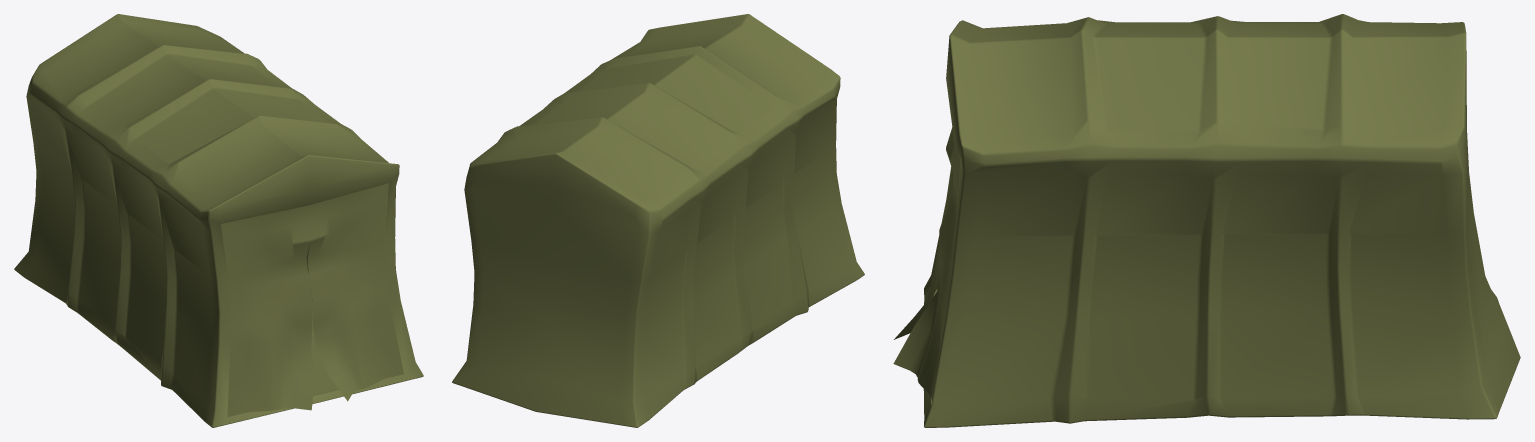
The model's file is BARRAC.fbx.
3 views of the same model, side by side, from view 1: azimuth 30°, elevation 25°; view 2: azimuth 150°, elevation 25°; view 3: azimuth 270°, elevation 25° (orthographic). The views are drawn at different scales.
Parts seen in each view (by area): view 1: Barrac; view 2: Barrac; view 3: Barrac.
Part boxes in pixels (x1=…): Barrac: x1=14, y1=14, x2=423, y2=427; Barrac: x1=452, y1=14, x2=864, y2=427; Barrac: x1=893, y1=14, x2=1520, y2=427.
Size of the model in its own units: 5.5 by 6.06 by 10.45.
